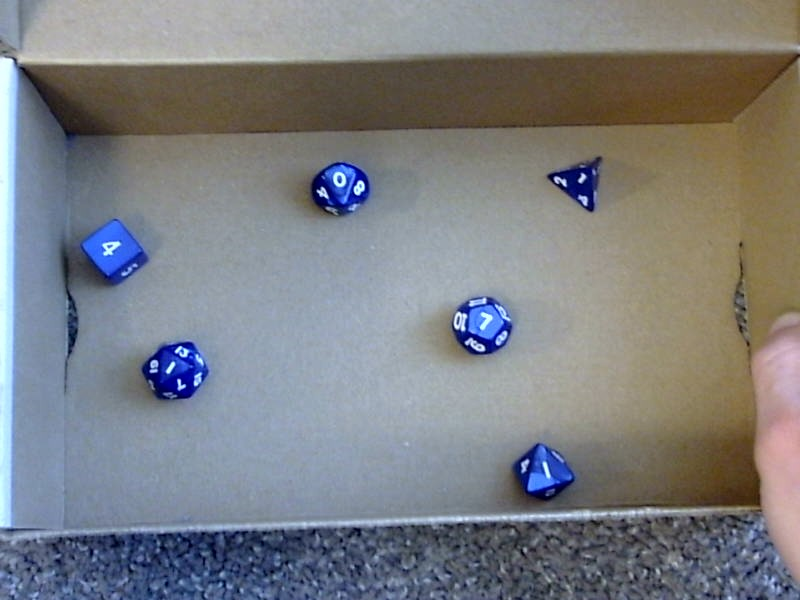d10 10: (302, 160, 372, 219)
d12 7: (445, 290, 516, 358)
d20 1: (138, 339, 209, 403)
d4 1: (538, 144, 605, 217)
d6 4: (75, 215, 150, 289)
d8 1: (502, 433, 578, 503)
